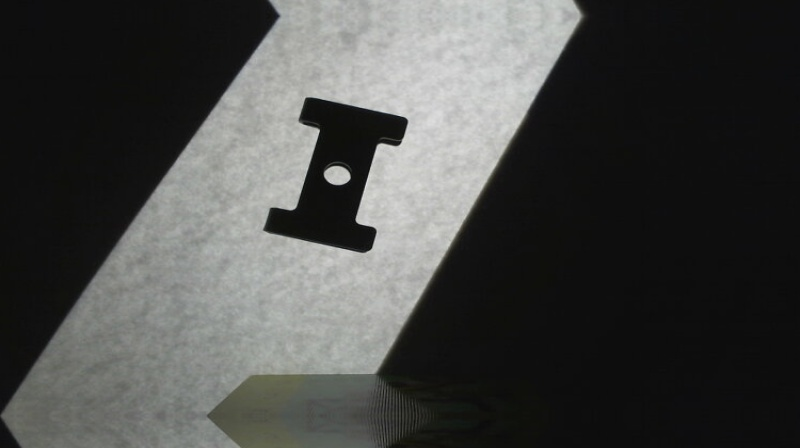O002: (259, 95, 411, 255)
